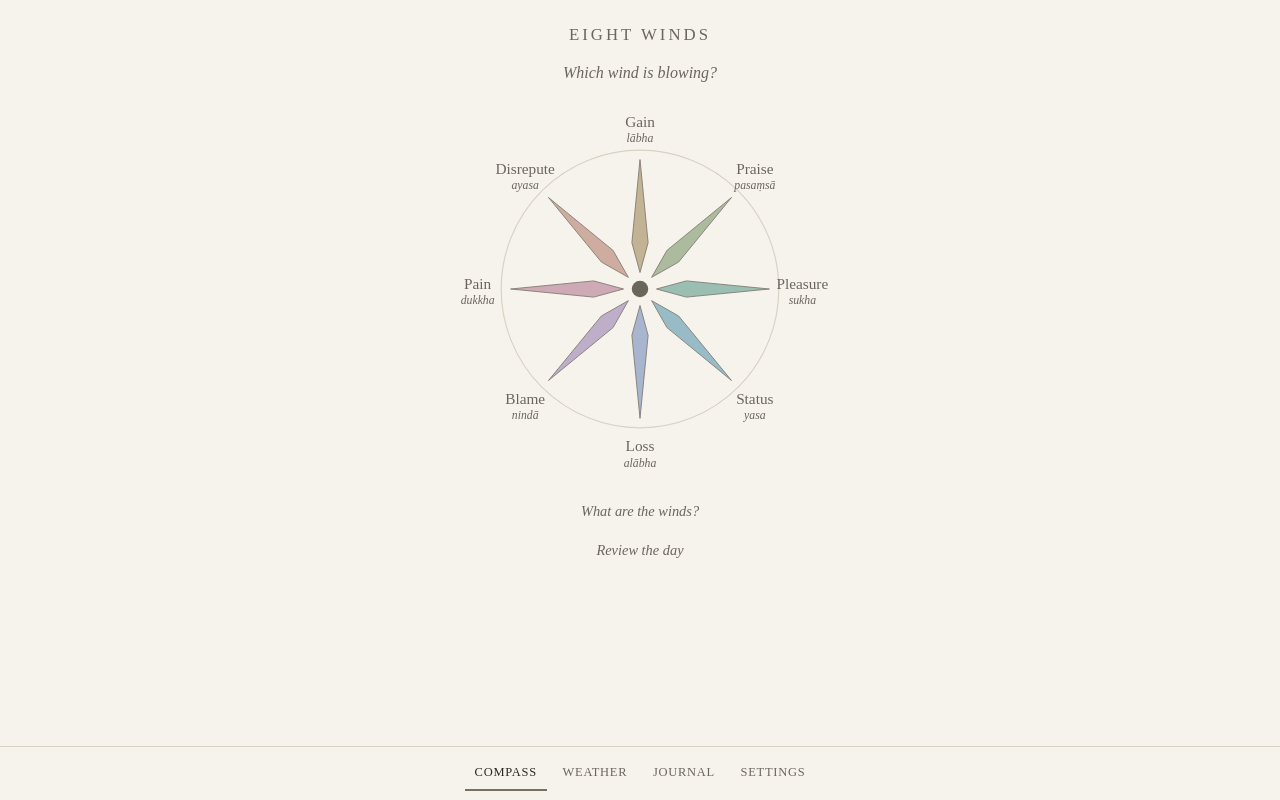
Test: wind guide › explains the winds in plain language and can log straight from a description
The width and height of the screenshot is (1280, 800).
Click the button "What are the winds?" at x=640, y=512, box 573,496 -> 707,528
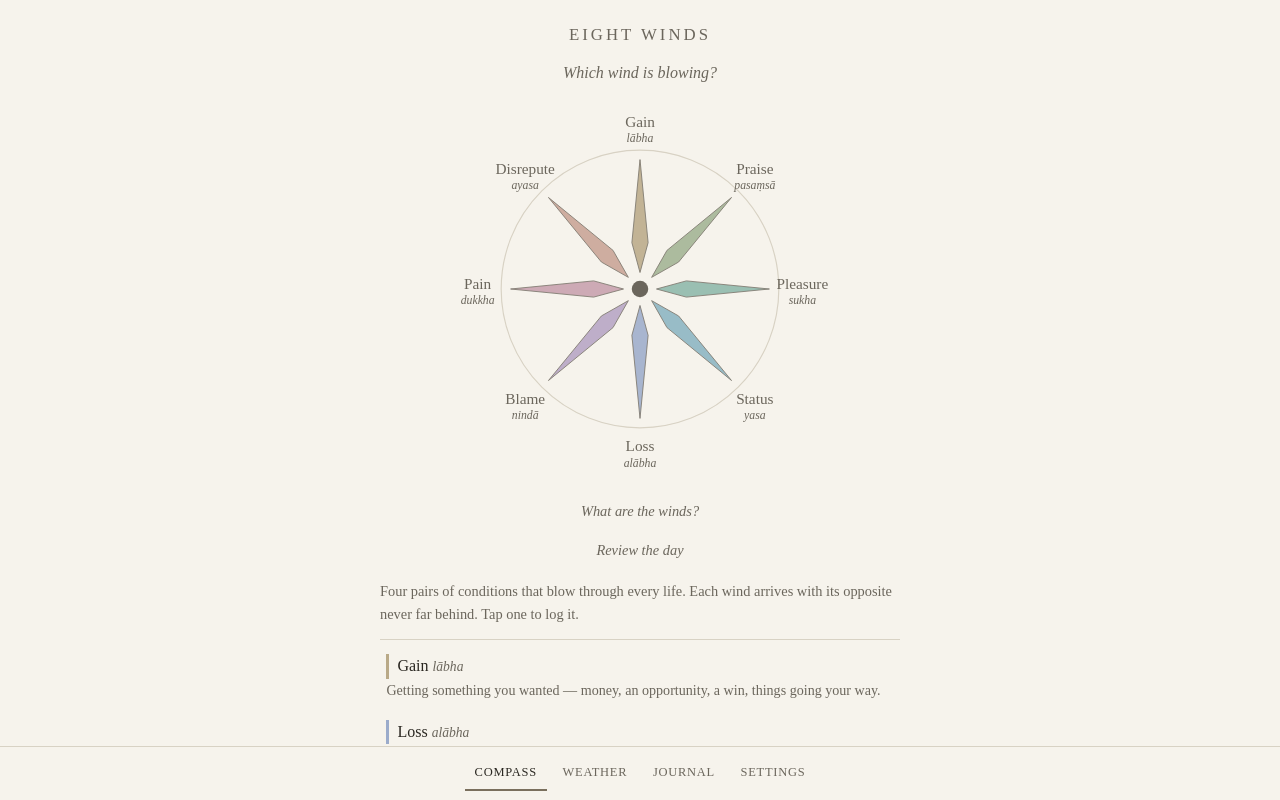
Check: the text "Losing something you had" is shown, box 386,748 -> 818,764
Click the button "Losing something you had" at x=640, y=744, box 380,714 -> 900,773
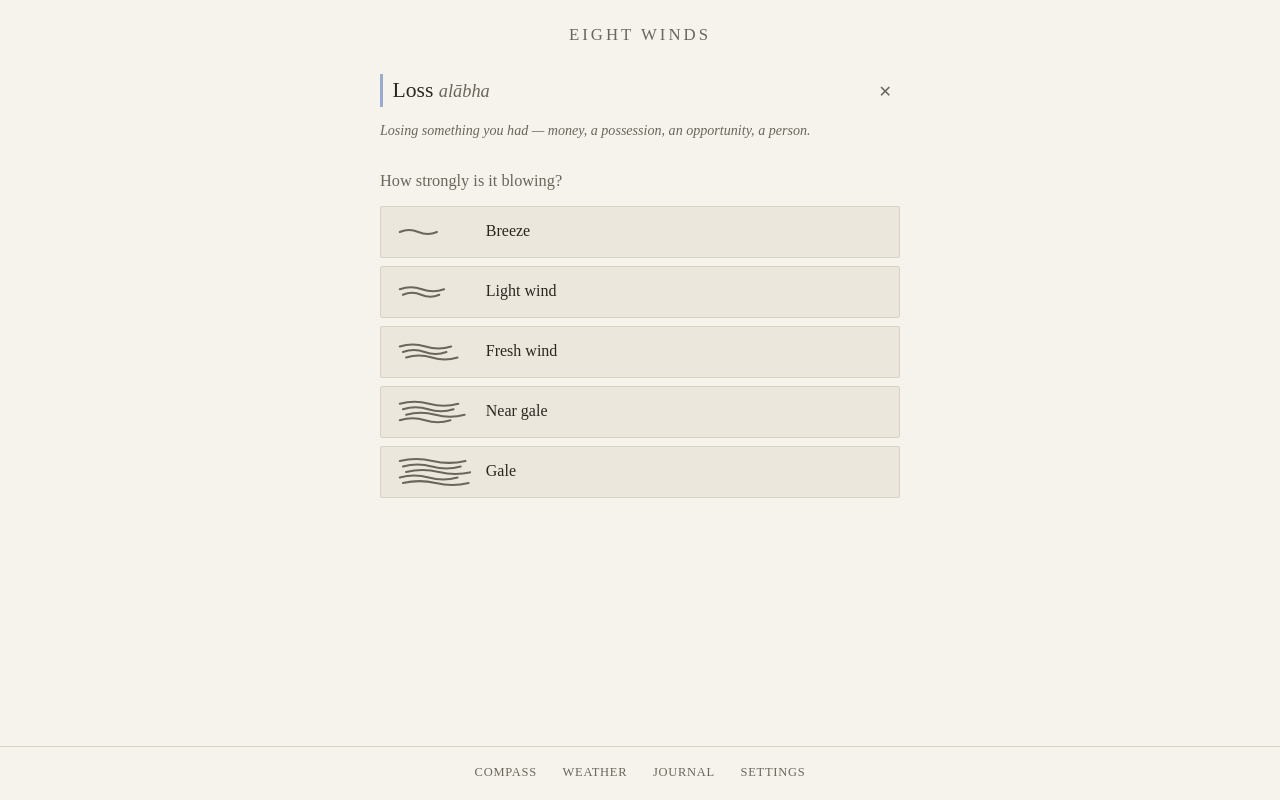
Check: the text "Losing something you had" is shown, box 380,122 -> 811,138
Check: the heading "How strongly is it blowing?" is shown, box 380,171 -> 562,190
